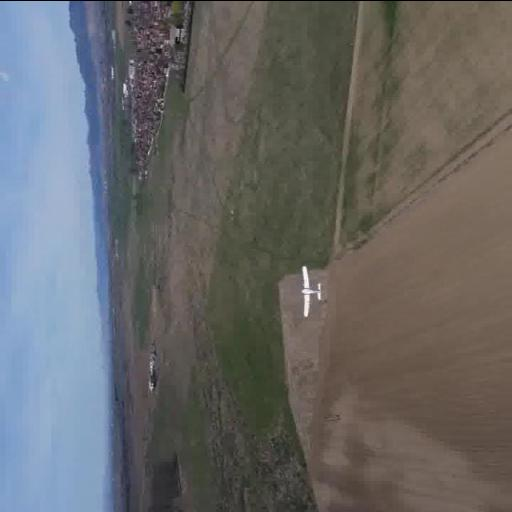uav: (294, 262, 330, 316)
